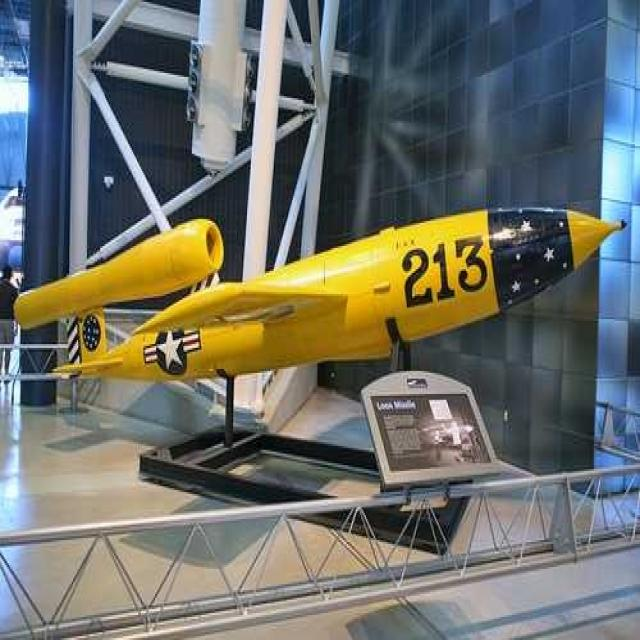missile: (14, 203, 632, 387)
